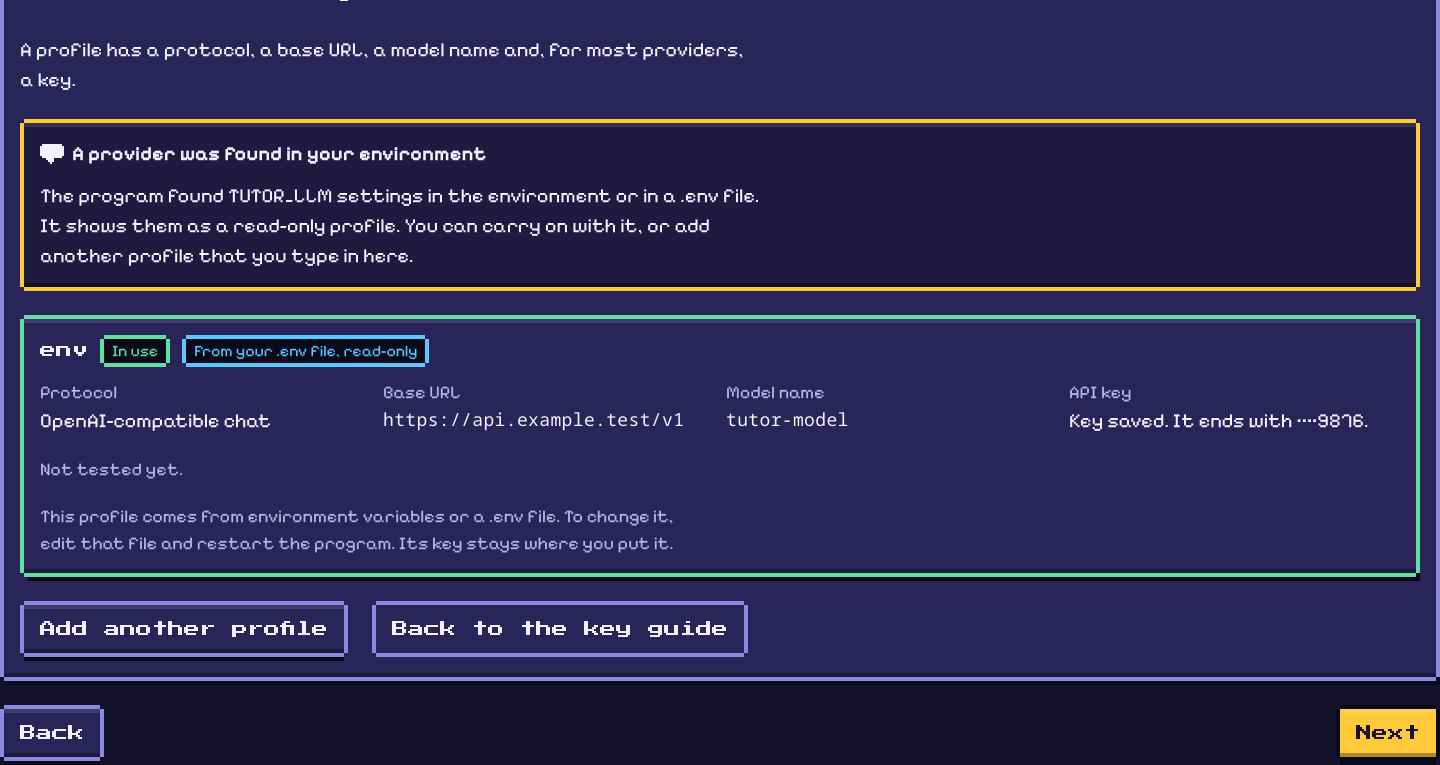
Scenario: OnboardingWizard › shows the read-only env profile and lets the learner carry on with it
(page scrolled)
Expected: the text "A provider was found in your environment" is shown, x1=72 y1=139 x2=487 y2=169
Expected: the element "env" shows "From your .env file, read-only", x1=194 y1=341 x2=417 y2=360
Click the button "Add another profile": click(184, 629) x1=24 y1=605 x2=344 y2=653
(page scrolled)
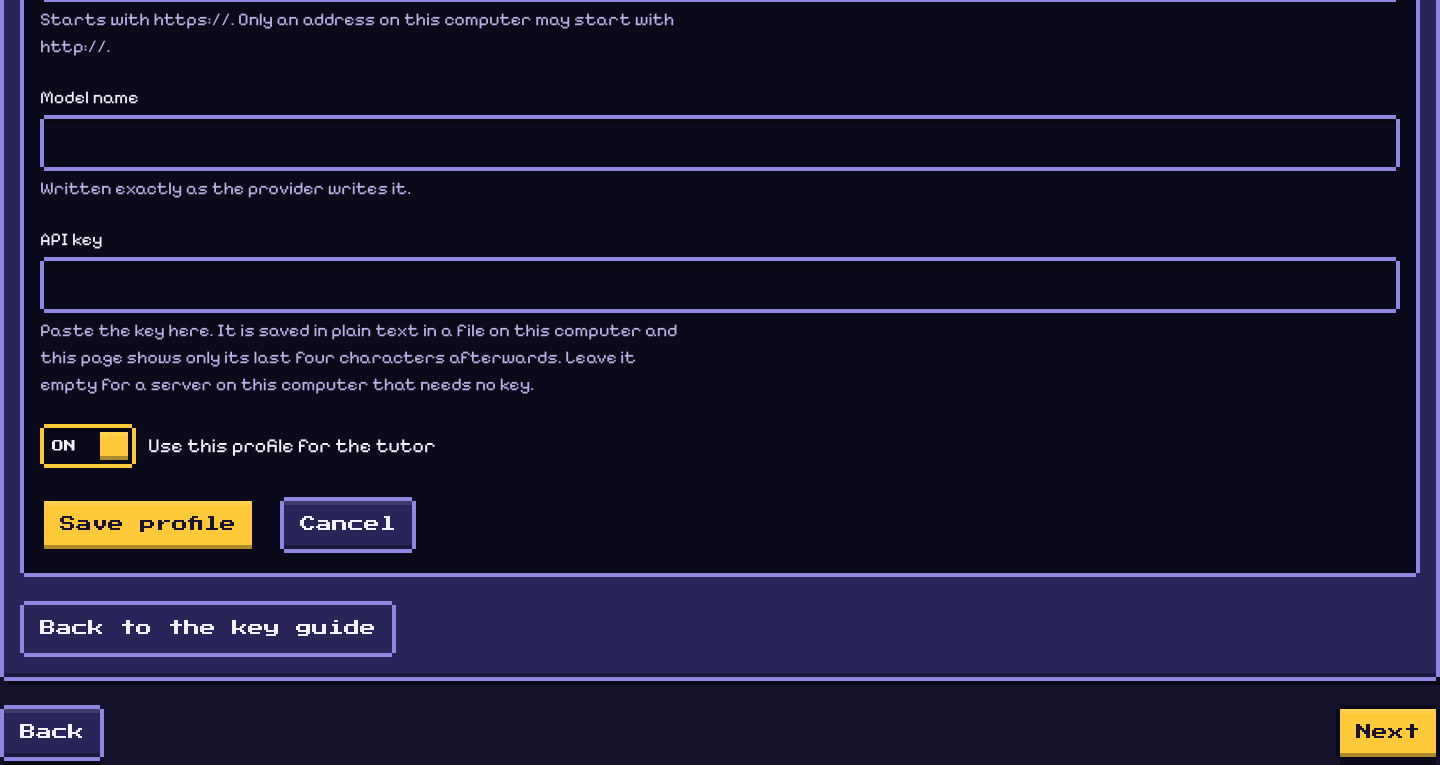
Expected: the password field labelled "API key" is shown, x1=44 y1=261 x2=1396 y2=309
Click the button "Cancel": click(348, 525) x1=284 y1=501 x2=412 y2=549
(page scrolled)
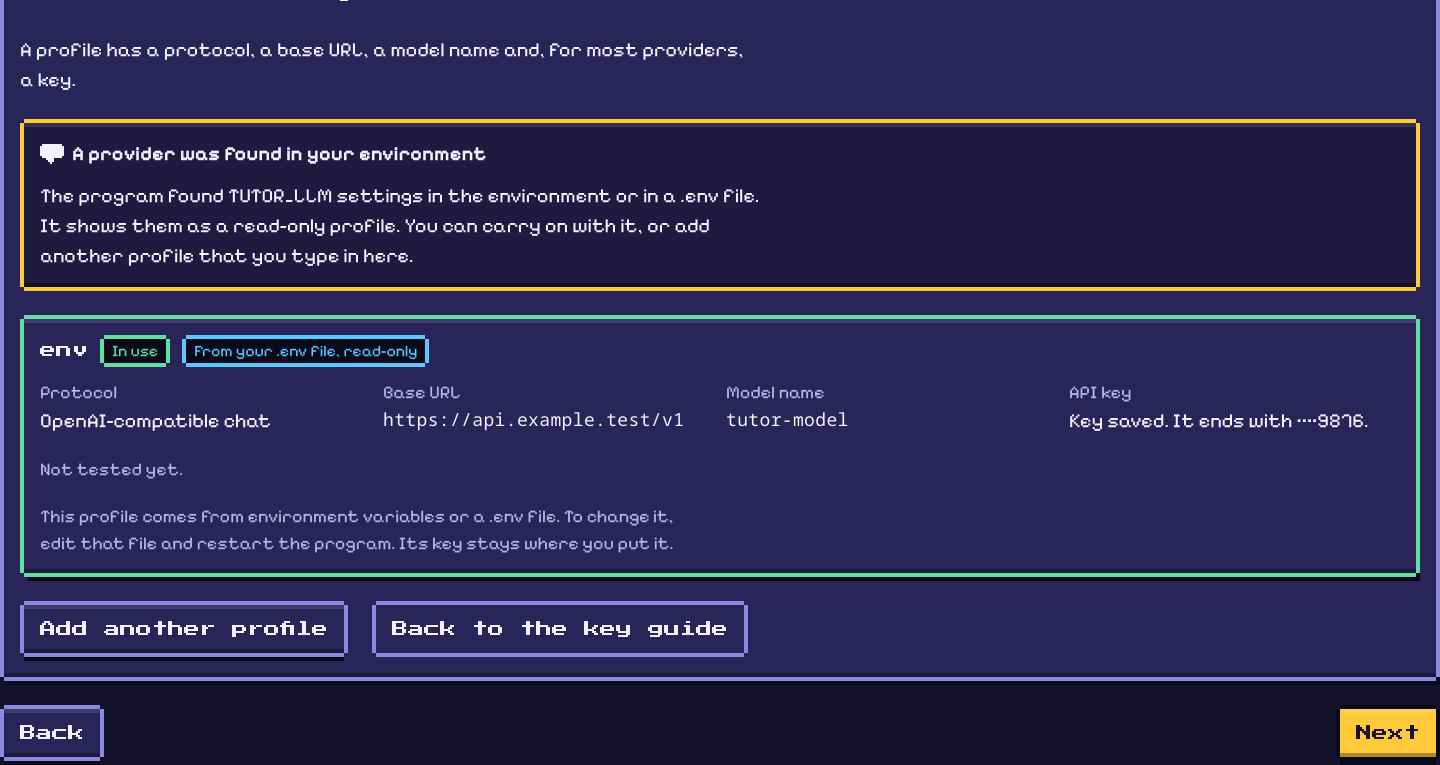
Click the button "Next": click(1388, 733) x1=1340 y1=709 x2=1436 y2=757
(page scrolled)
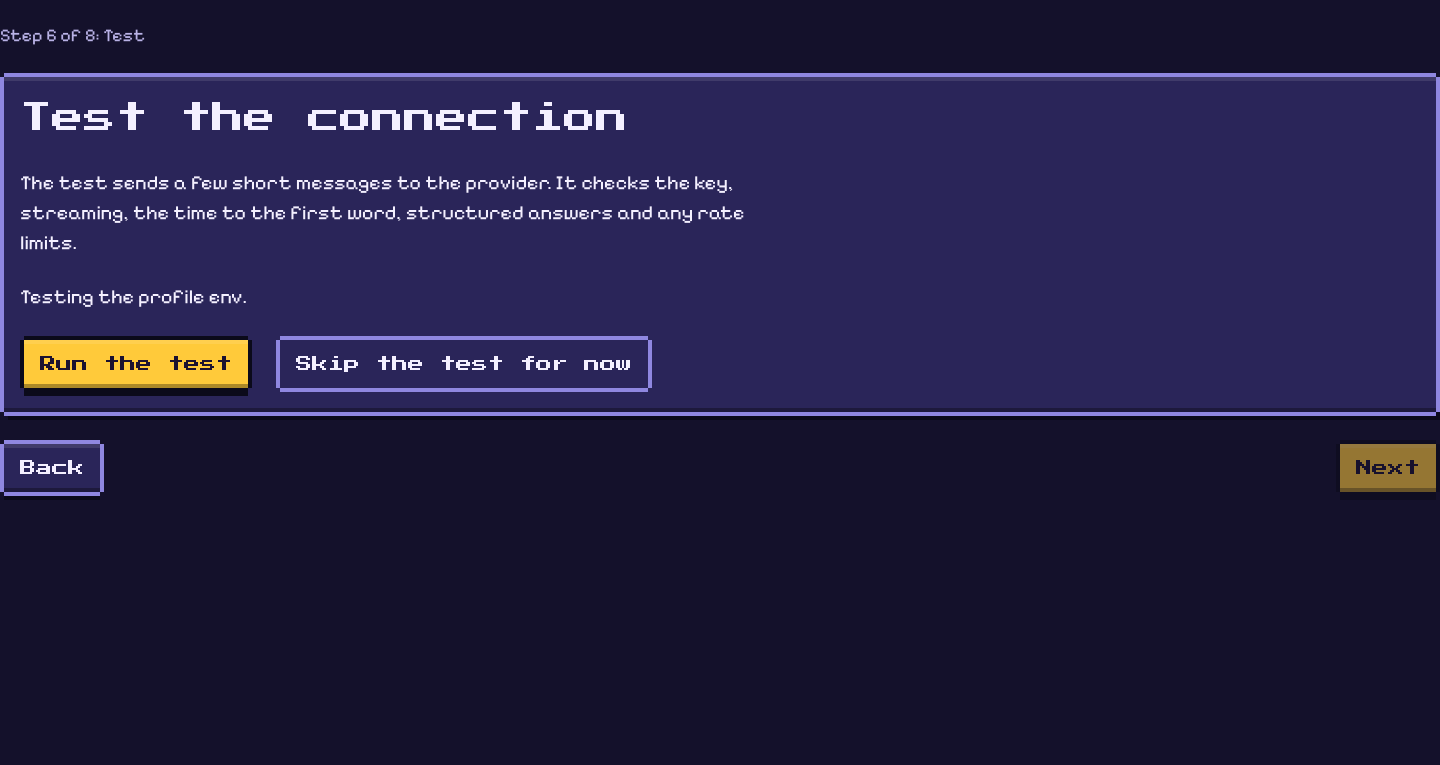
Expected: the heading reads "Test the connection", x1=20 y1=102 x2=628 y2=134
